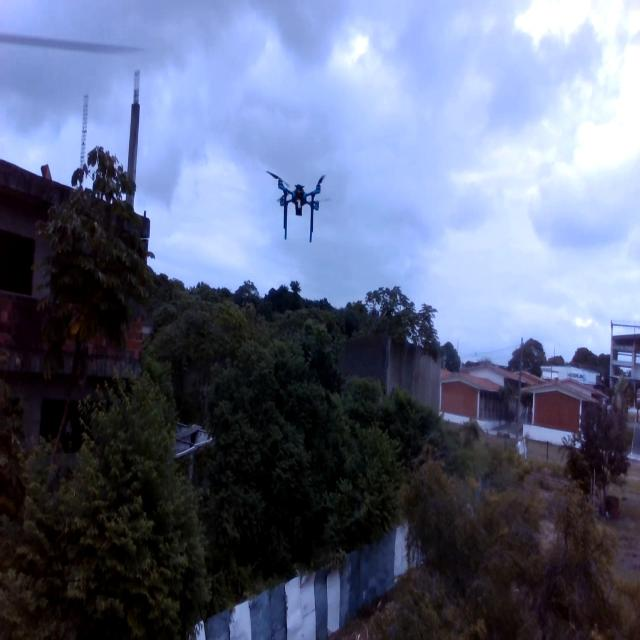-uav-: (256, 150, 348, 254)
